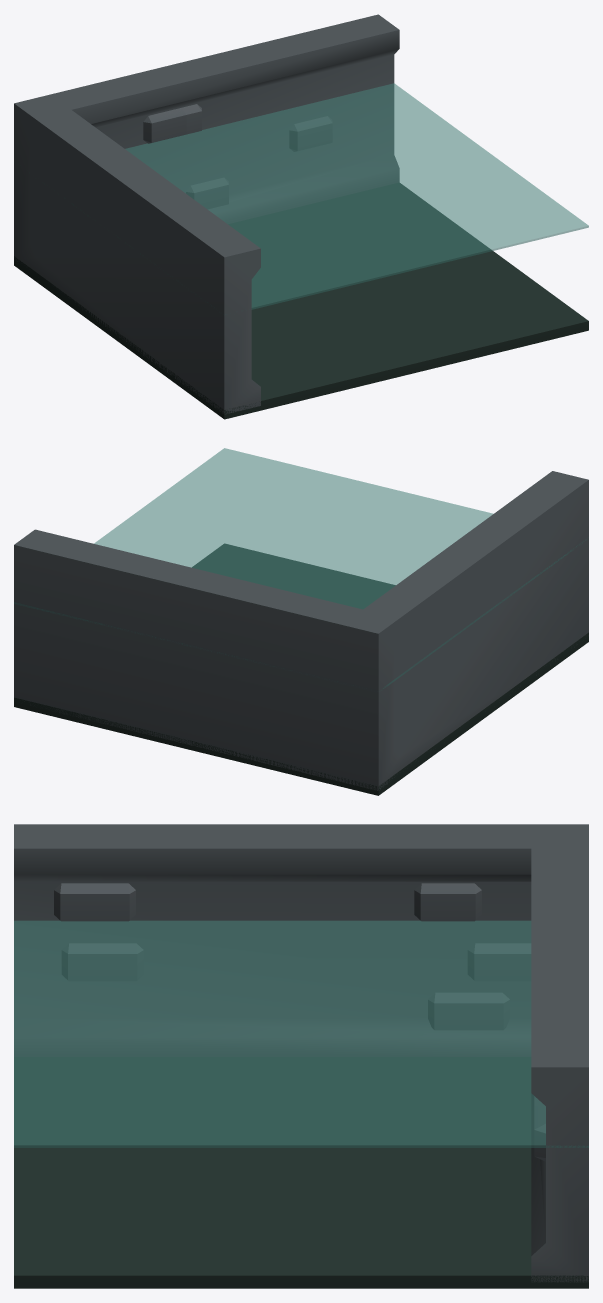
File: floor_pool_corner_A.glb
3 views of the same model, one above another, from view 1: azimuth 30°, elevation 25°; view 2: azimuth 150°, elevation 25°; view 3: azimuth 270°, elevation 25° (orthographic). The views are drawn at different scales.
Parts seen in each view (by area): view 1: Item; view 2: Item; view 3: Item.
Boxes of the visible parts, bbox=[...] form: Item: bbox=[14, 14, 588, 419]; Item: bbox=[14, 448, 588, 795]; Item: bbox=[14, 824, 588, 1288].
Size of the model in its own units: 4 by 1.7 by 4.
Materials: 3 (3 with a texture image).
